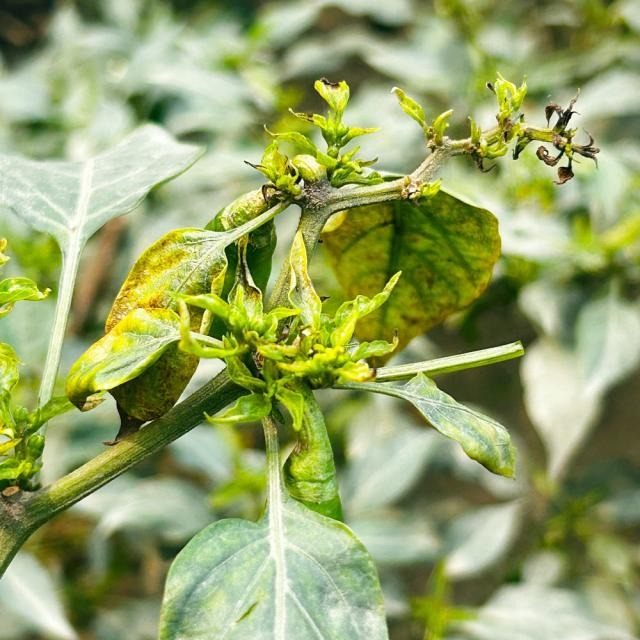Chilli_Leaf_Curl: (3, 69, 600, 637), (0, 120, 206, 490), (64, 188, 287, 432), (157, 413, 390, 639), (171, 224, 402, 433), (317, 180, 502, 365), (390, 70, 600, 186), (332, 369, 518, 480), (63, 304, 190, 412)
